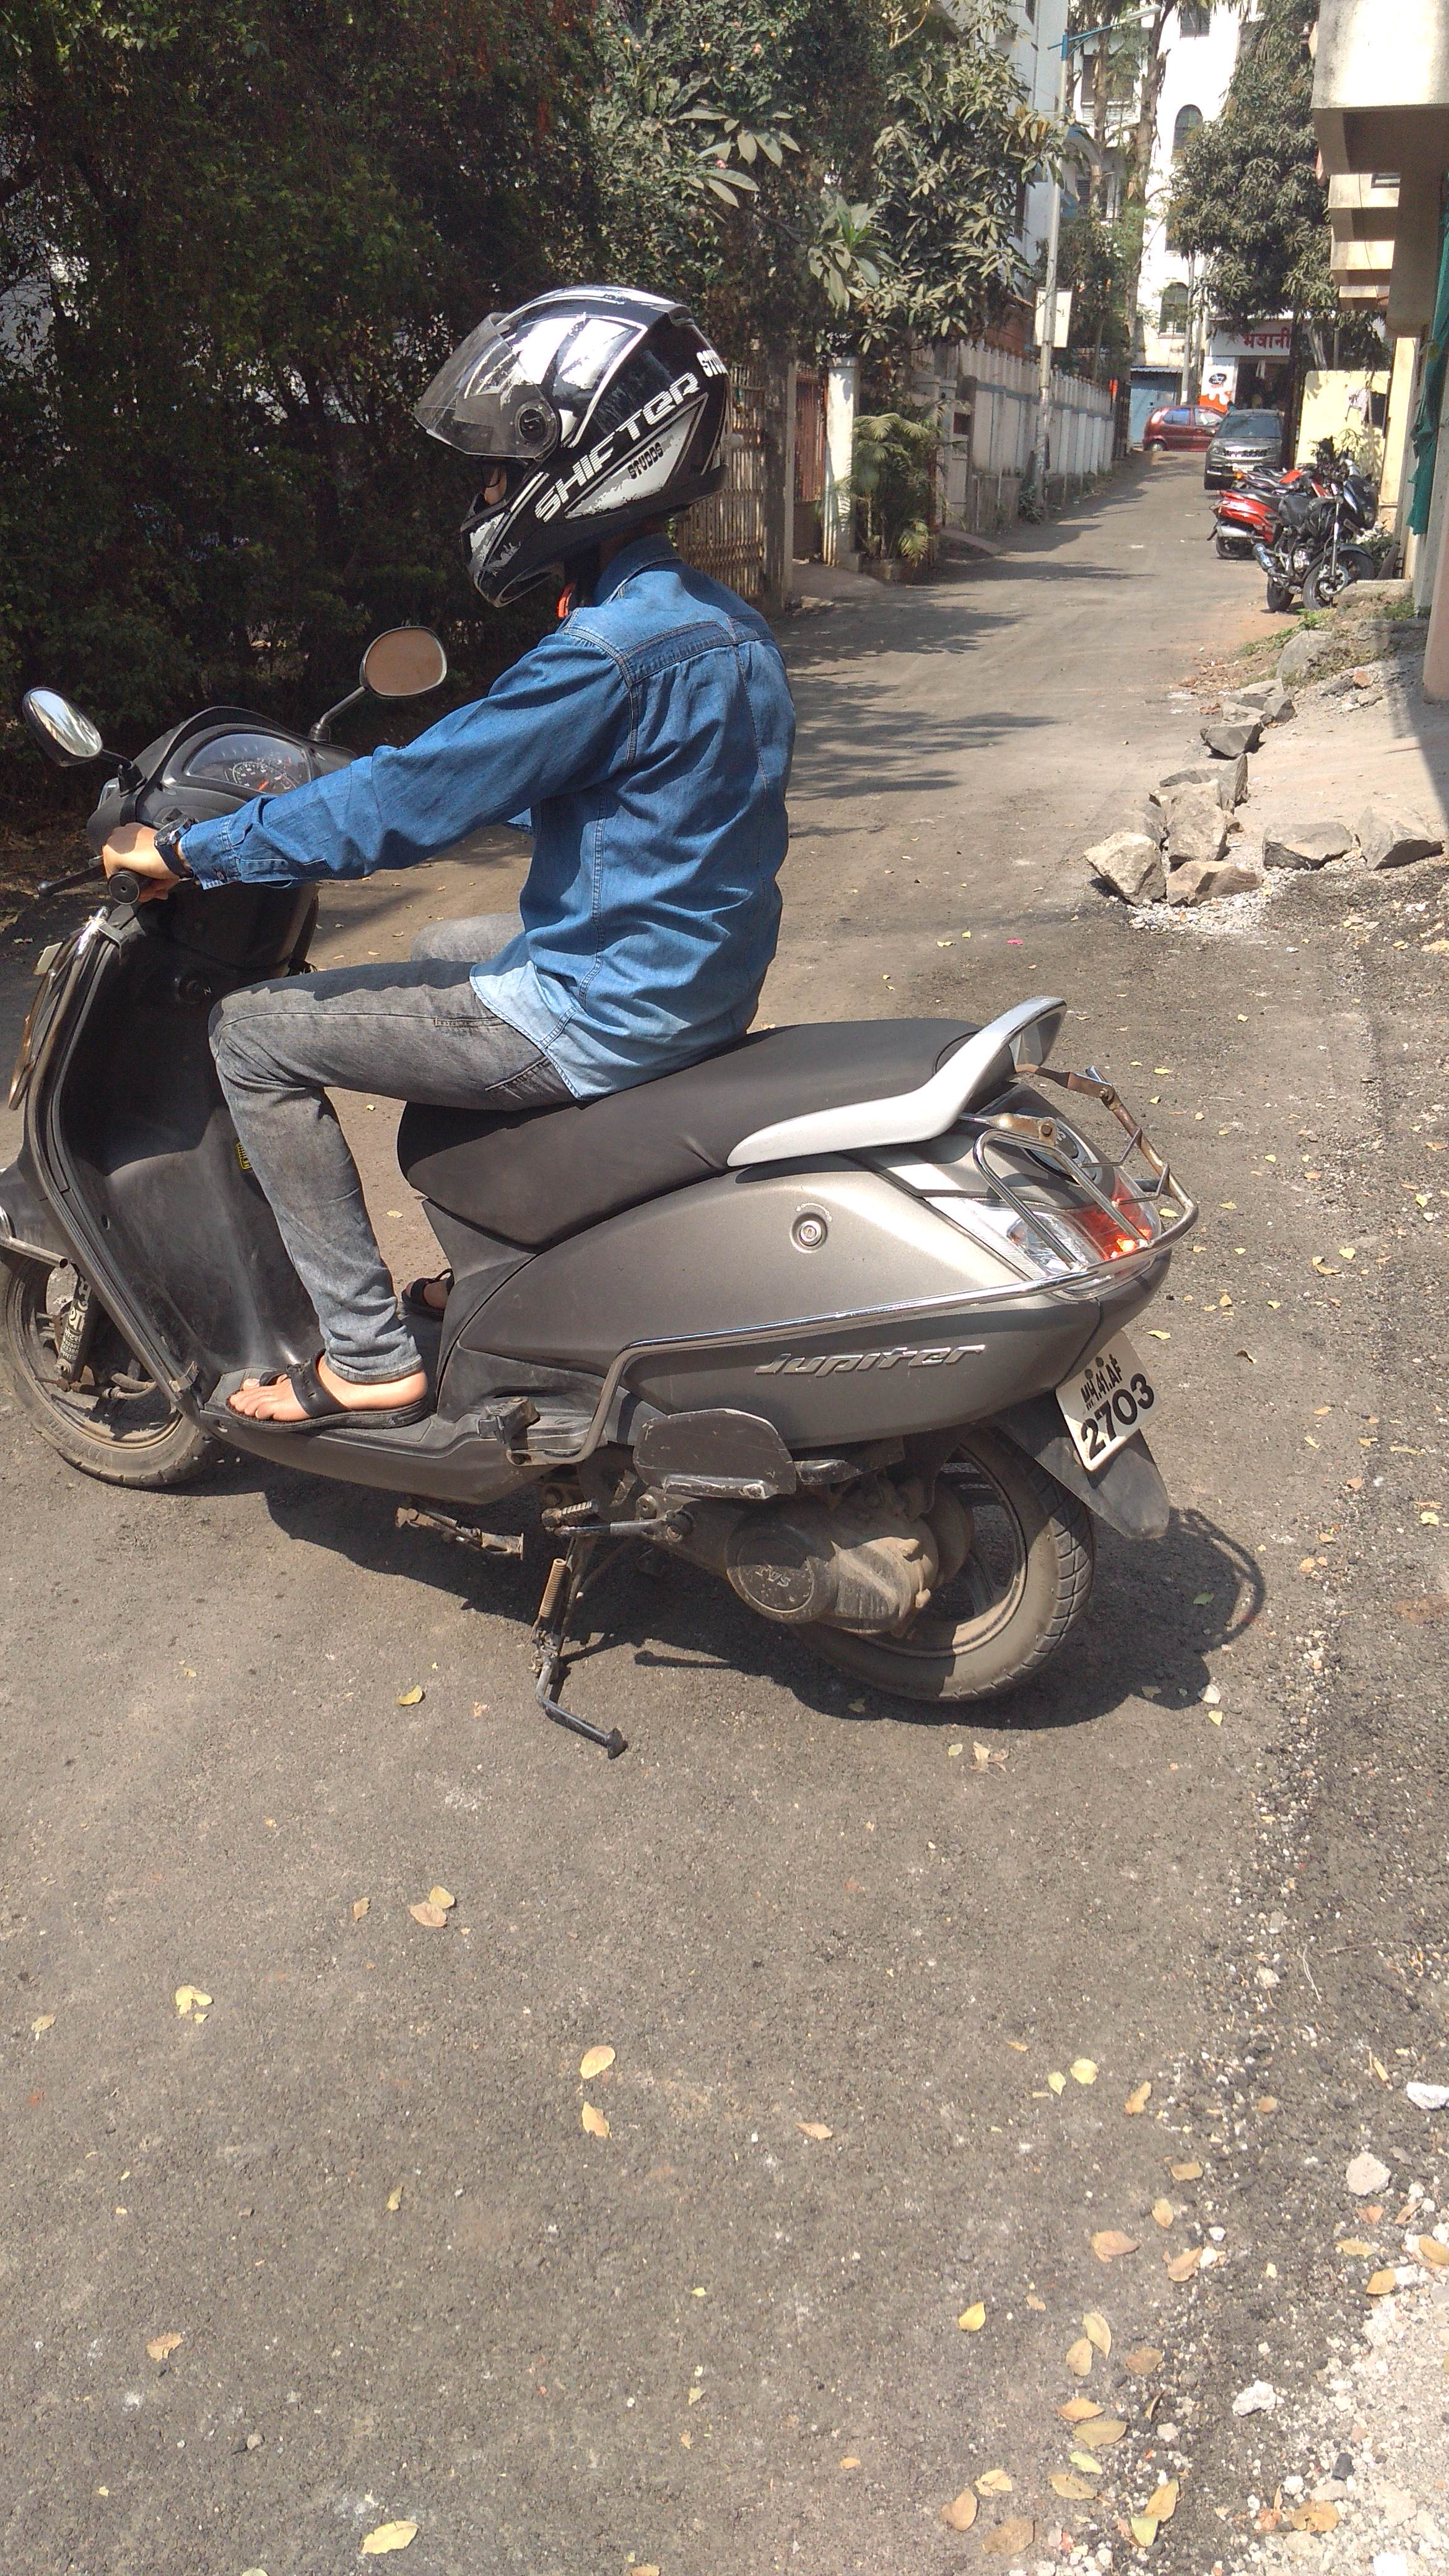helmet: (287, 288, 869, 1148)
